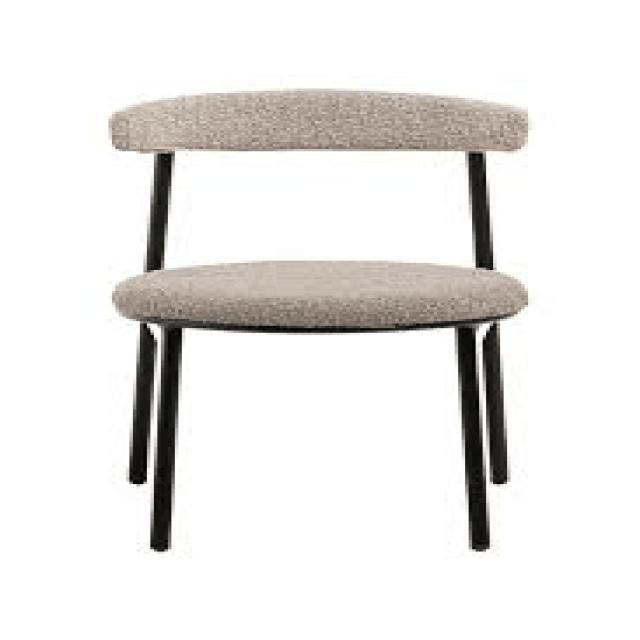chair: (107, 80, 535, 554), (100, 87, 536, 336)
